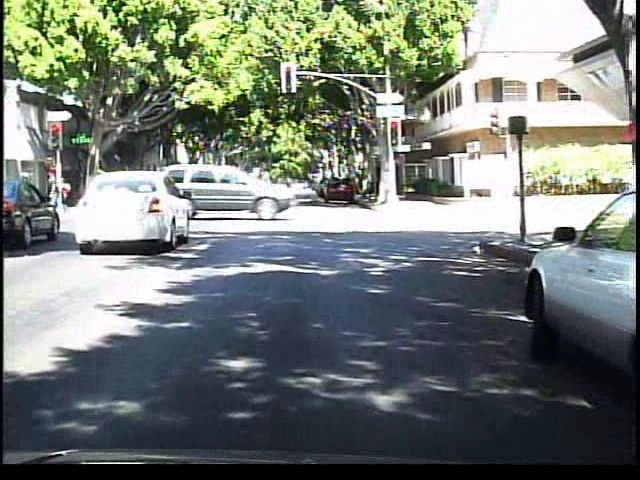person: (52, 165, 76, 212)
